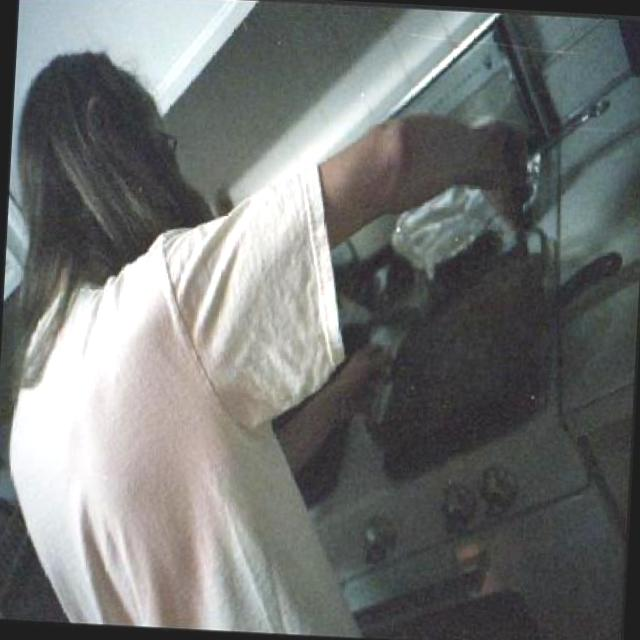Person: (0, 17, 541, 628)
